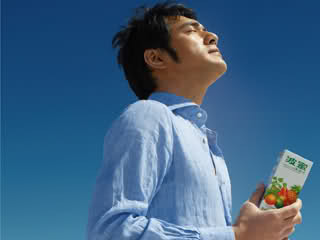vegetables juice: (268, 148, 313, 214)
